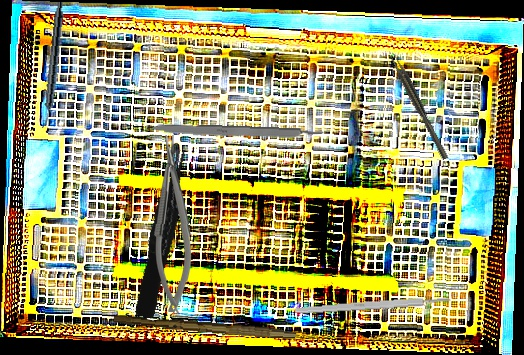Handpiece: (39, 1, 66, 129)
Needle Holder: (152, 135, 195, 313)
Scalpel Handle: (113, 313, 297, 340), (145, 122, 327, 142), (293, 295, 452, 316)
Tissue Forceps: (126, 147, 201, 320), (388, 52, 449, 162)
